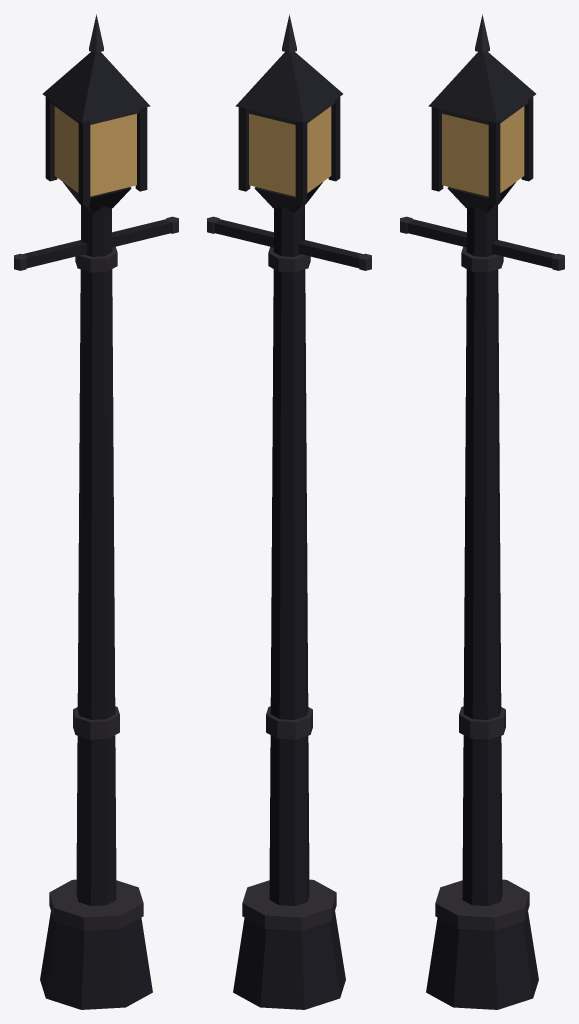
File: street-lamp.glb
3 renders of one model, left to right at view 1: azimuth 30°, elevation 25°; view 2: azimuth 150°, elevation 25°; view 3: azimuth 330°, elevation 25°, orthographic.
Parts seen in each view (by area): view 1: street-lamp; view 2: street-lamp; view 3: street-lamp.
Part boxes in pixels (<box>): street-lamp: <box>14,14,178,1009</box>; street-lamp: <box>207,14,371,1009</box>; street-lamp: <box>400,14,564,1009</box>.
Bounding box in the file's own units: 0.78 × 4.4 × 0.48.
